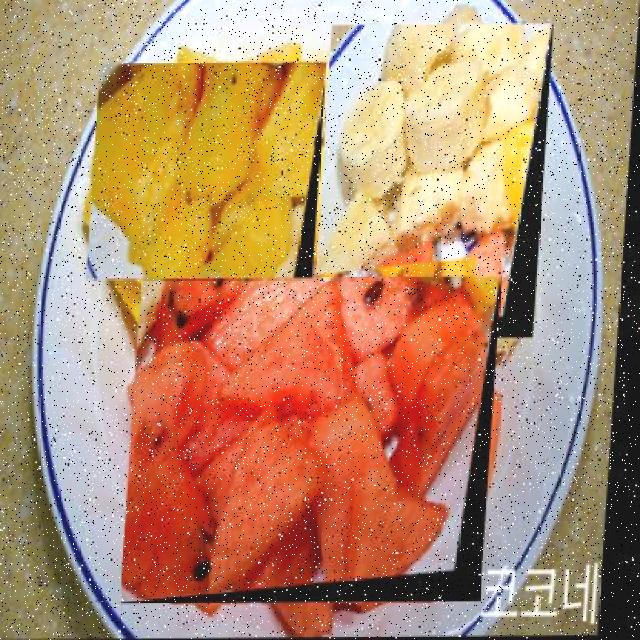Banana: (316, 25, 556, 342)
Watermelon: (128, 278, 507, 605)
